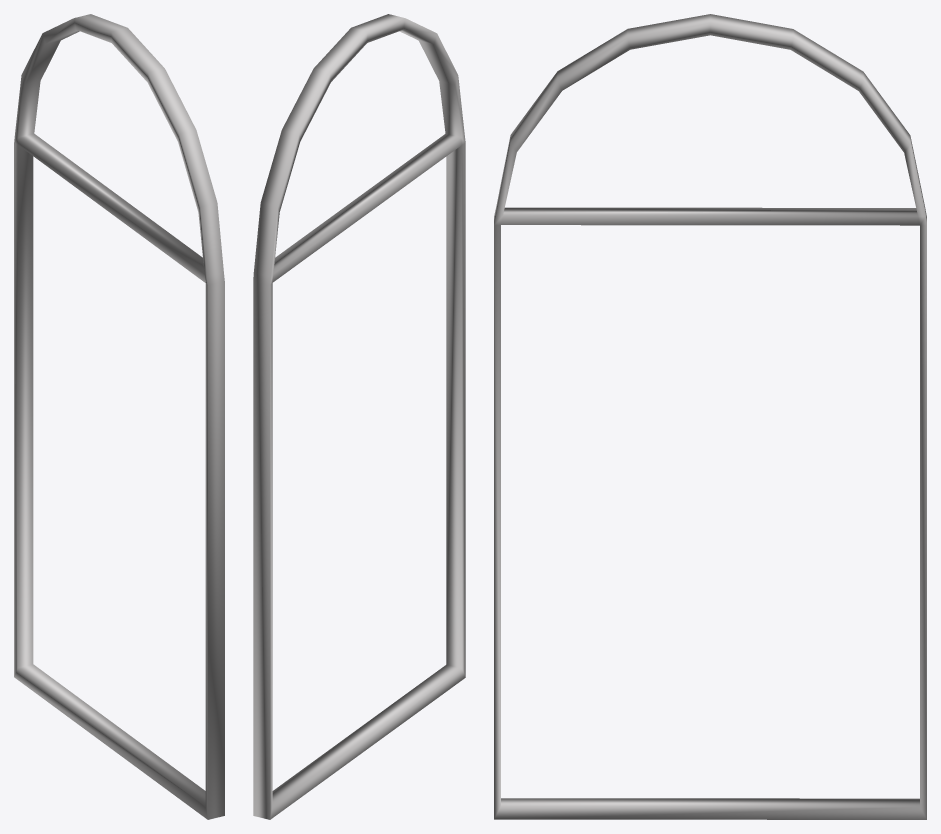
The model's file is bowfrontw.obj.
3 views of the same model, side by side, from view 1: azimuth 30°, elevation 25°; view 2: azimuth 150°, elevation 25°; view 3: azimuth 270°, elevation 25° (orthographic). The views are drawn at different scales.
Parts seen in each view (by area): view 1: polySurface201; view 2: polySurface201; view 3: polySurface201.
Part boxes in pixels (x1=…): polySurface201: x1=14, y1=14, x2=224, y2=819; polySurface201: x1=253, y1=14, x2=465, y2=819; polySurface201: x1=494, y1=14, x2=926, y2=819.
Size of the model in its own units: 5.24 by 202 by 99.33.
Materials: 1 (1 with a texture image).
